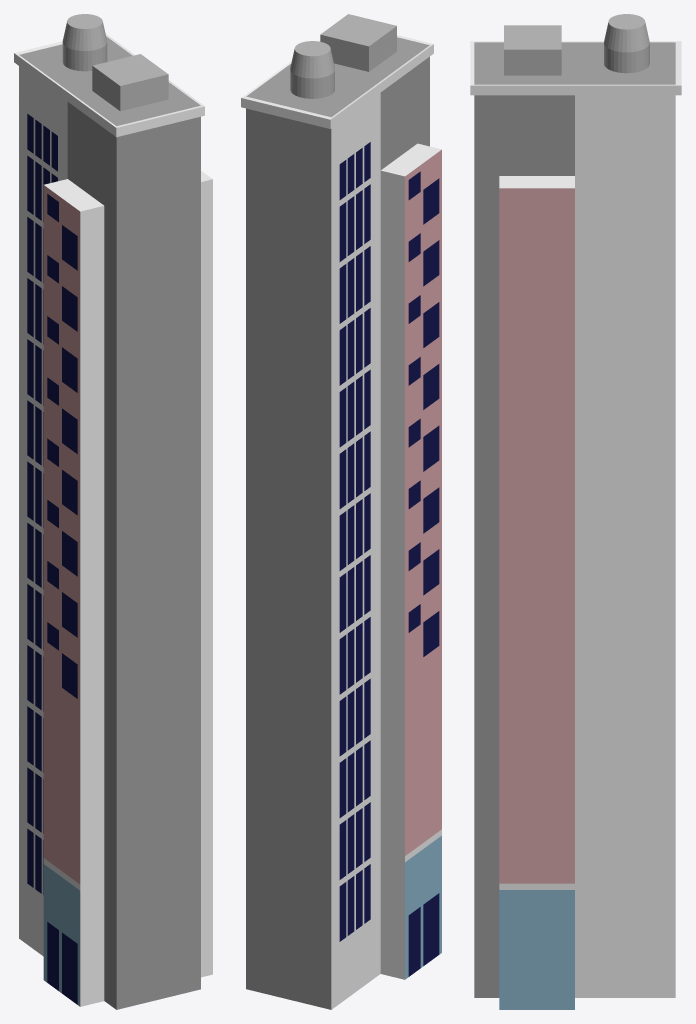
File: gedung tinggi.glb
3 renders of one model, left to right at view 1: azimuth 30°, elevation 25°; view 2: azimuth 150°, elevation 25°; view 3: azimuth 270°, elevation 25°, orthographic. The views are drawn at different scales.
Visible parts, largest first — view 1: Cube; view 2: Cube; view 3: Cube.
Part boxes in pixels (x1,y1,x2,y2): Cube: (14,14,212,1009); Cube: (241,14,441,1009); Cube: (470,14,681,1009).
Size of the model in its own units: 5.5 by 36.6 by 7.35.
